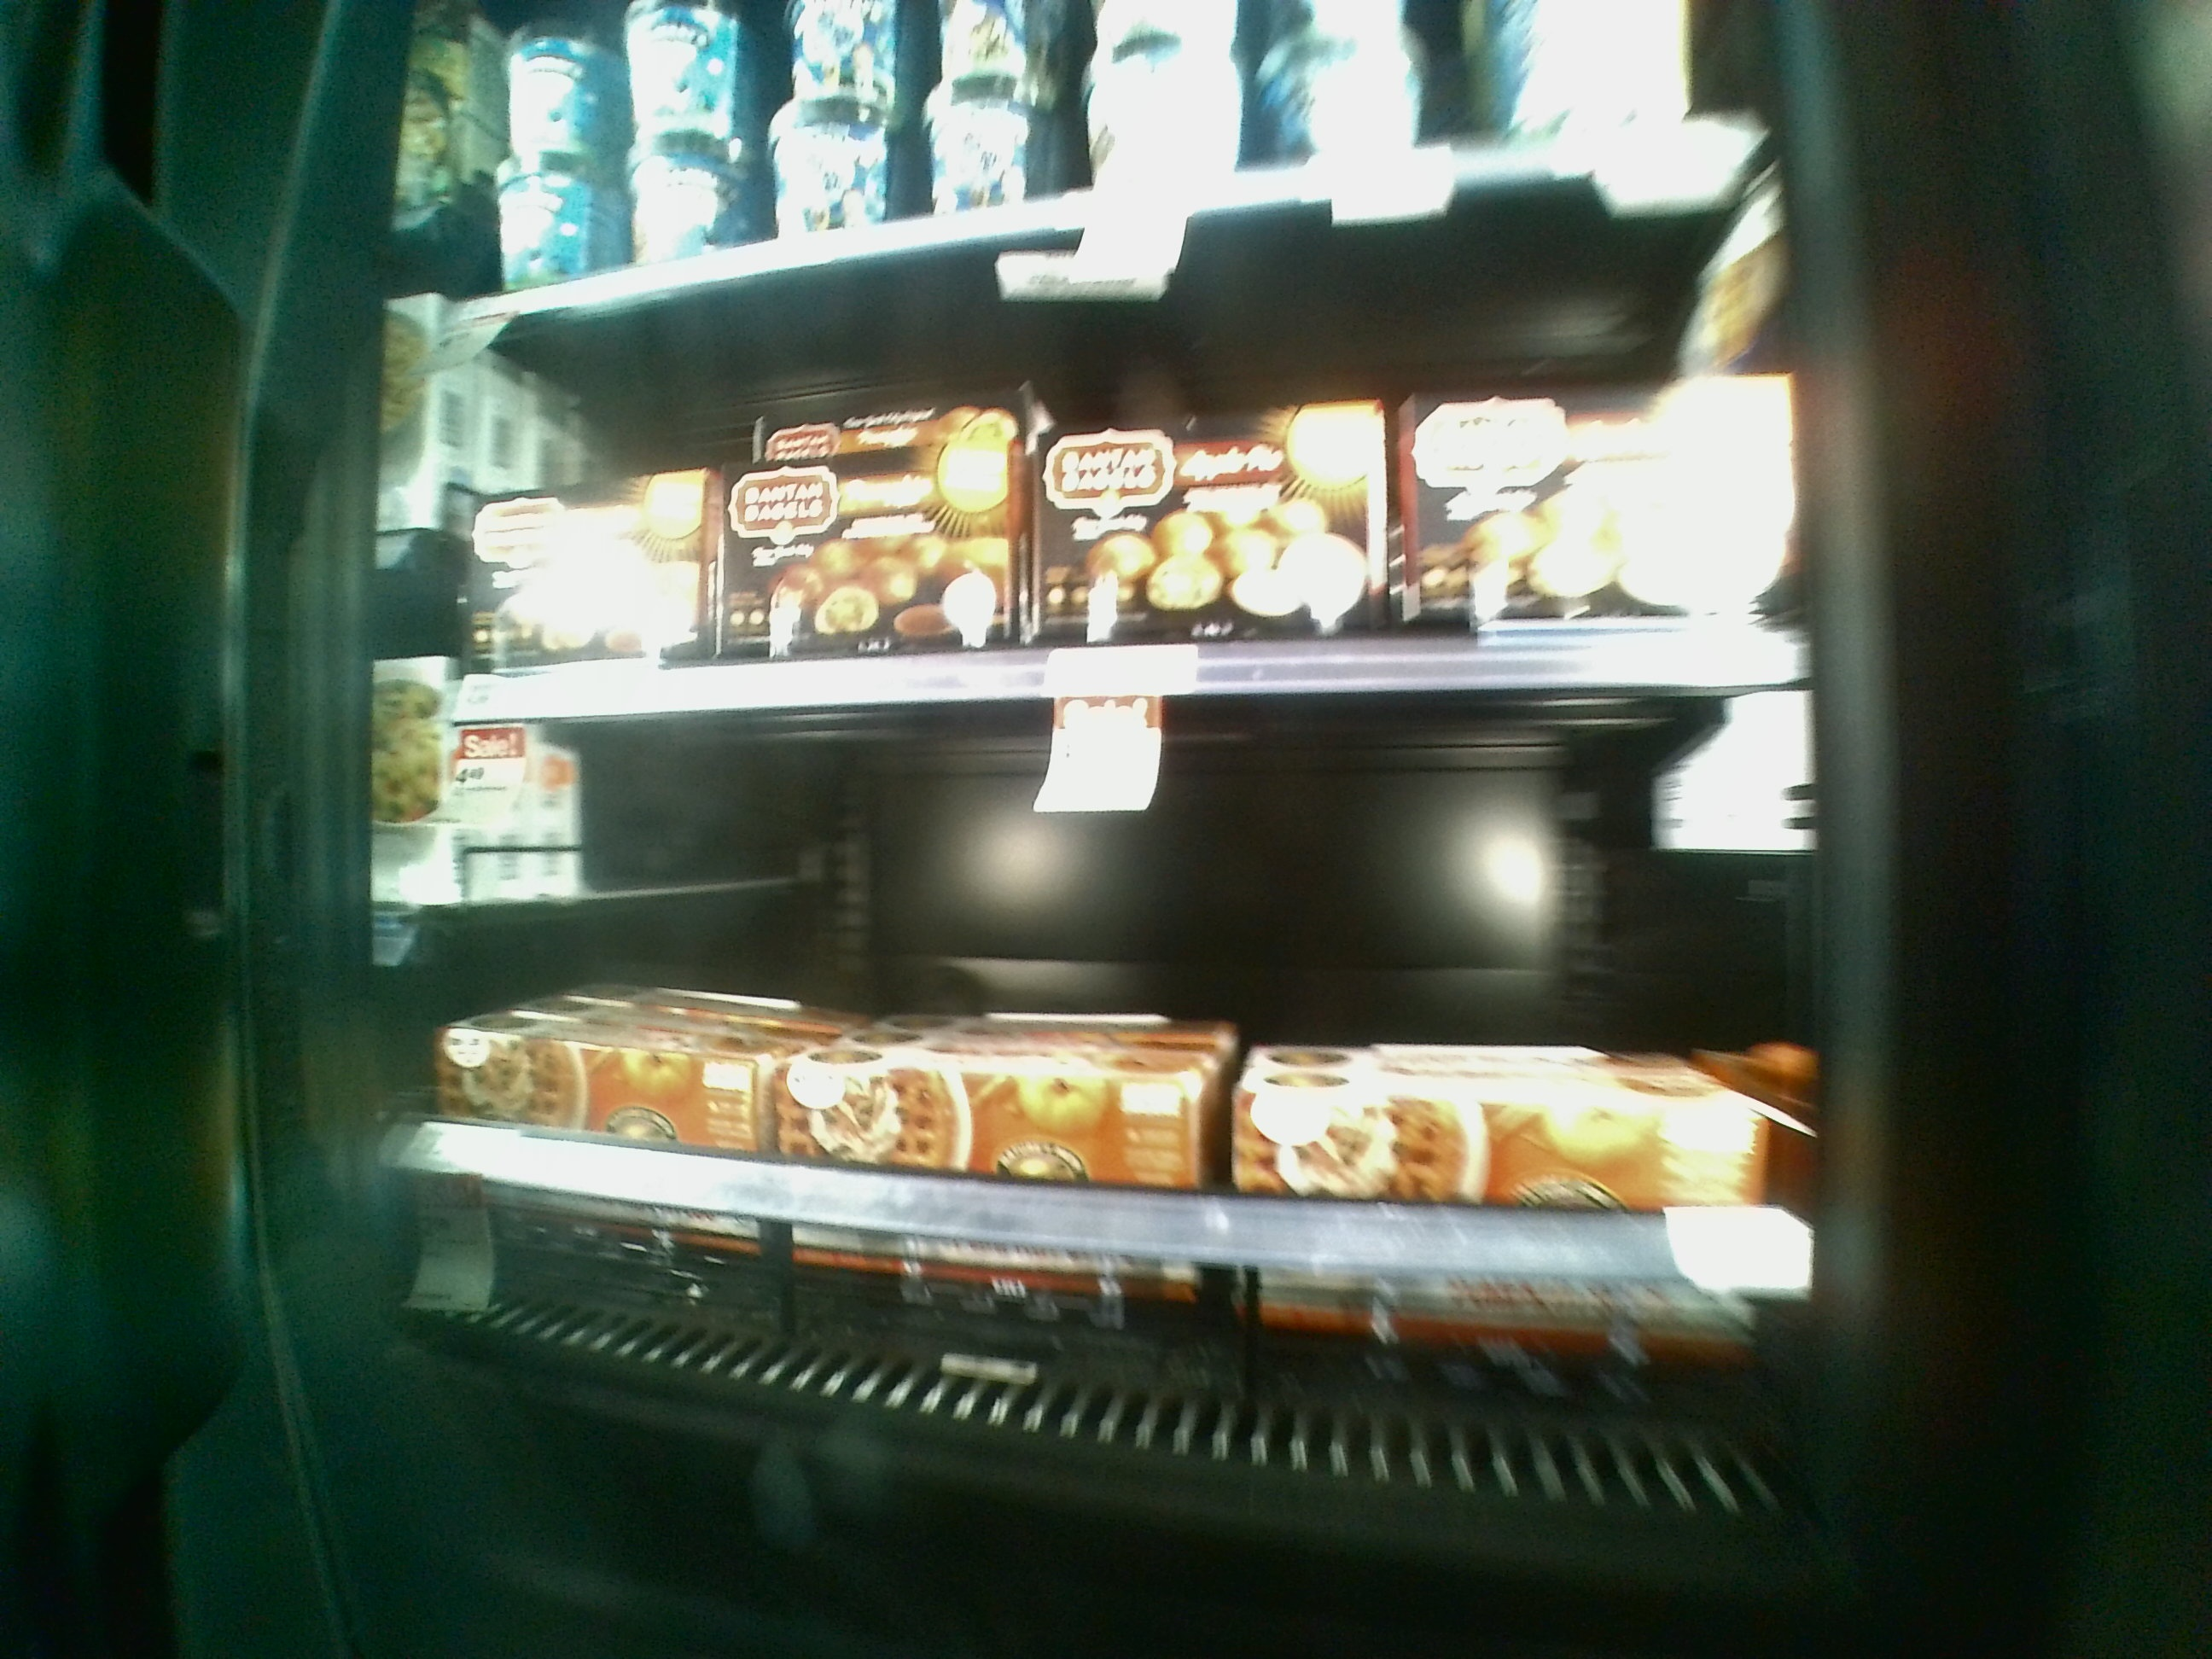shelf: (432, 655, 1806, 1389), (439, 253, 1780, 680)
